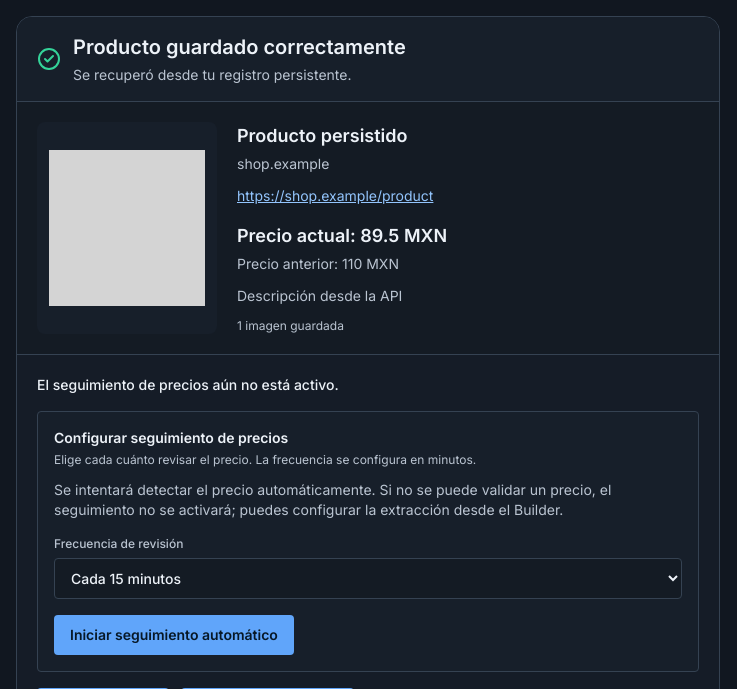
ProductSavedPage › creates an automatic monitor without requiring a saved configuration
Select "Cada 5 minutos" in the dropdown named "Frecuencia de revisión": [368, 578] box top-left (54, 558), bottom-right (682, 599)
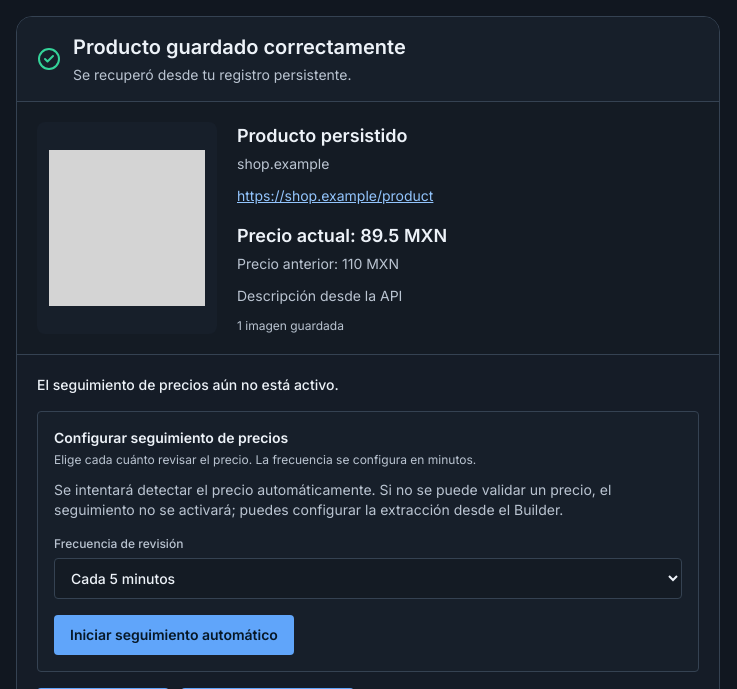
Click the button "Iniciar seguimiento automático": [174, 635] box top-left (54, 615), bottom-right (294, 655)
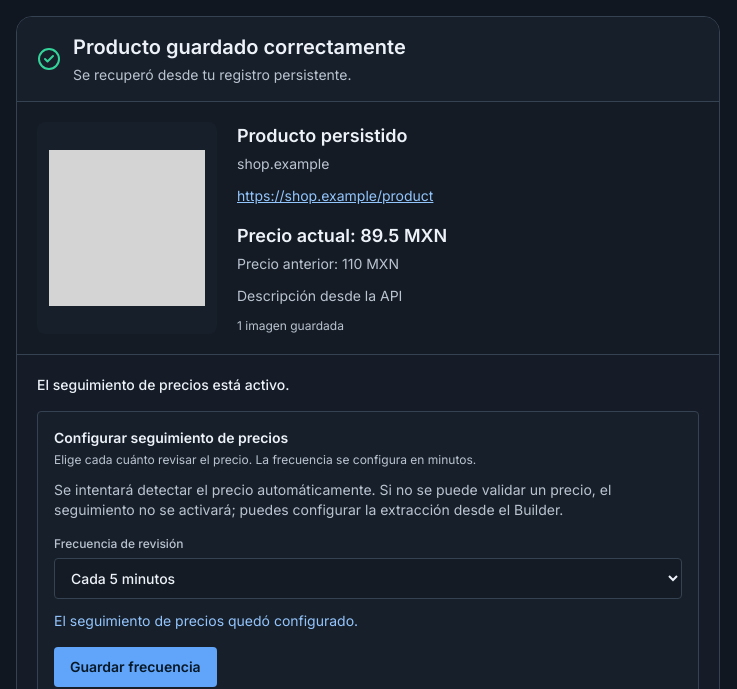
expect the text "El seguimiento de precios quedó configurado." is shown: met, box top-left (54, 612), bottom-right (358, 629)
expect the text "El seguimiento de precios está activo." is shown: met, box top-left (37, 376), bottom-right (290, 393)
